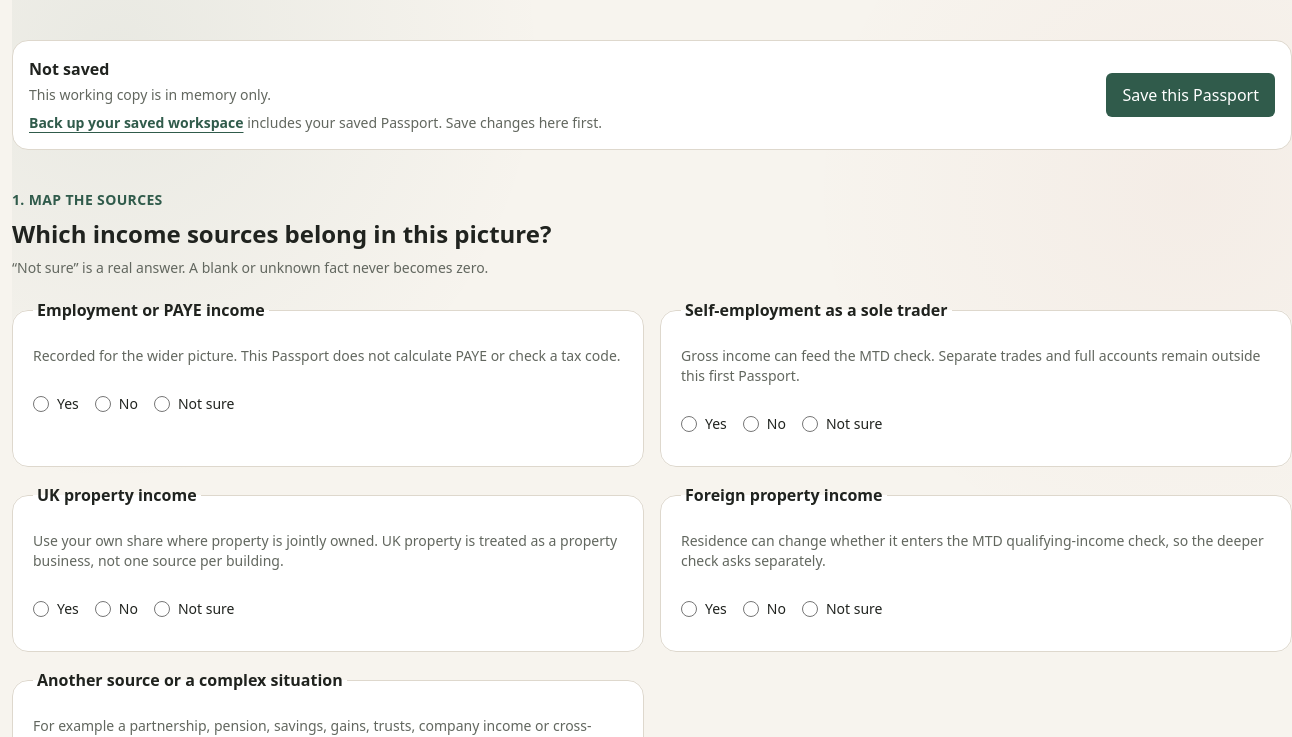
Tax Position Passport › treats a deliberate Not sure as an explicit source answer
Expected: the heading "Which income sources belong in this picture?" is shown, [12, 217, 551, 250]
Click the 1st radio button labelled "Not sure" at (162, 404), box [154, 396, 170, 412]
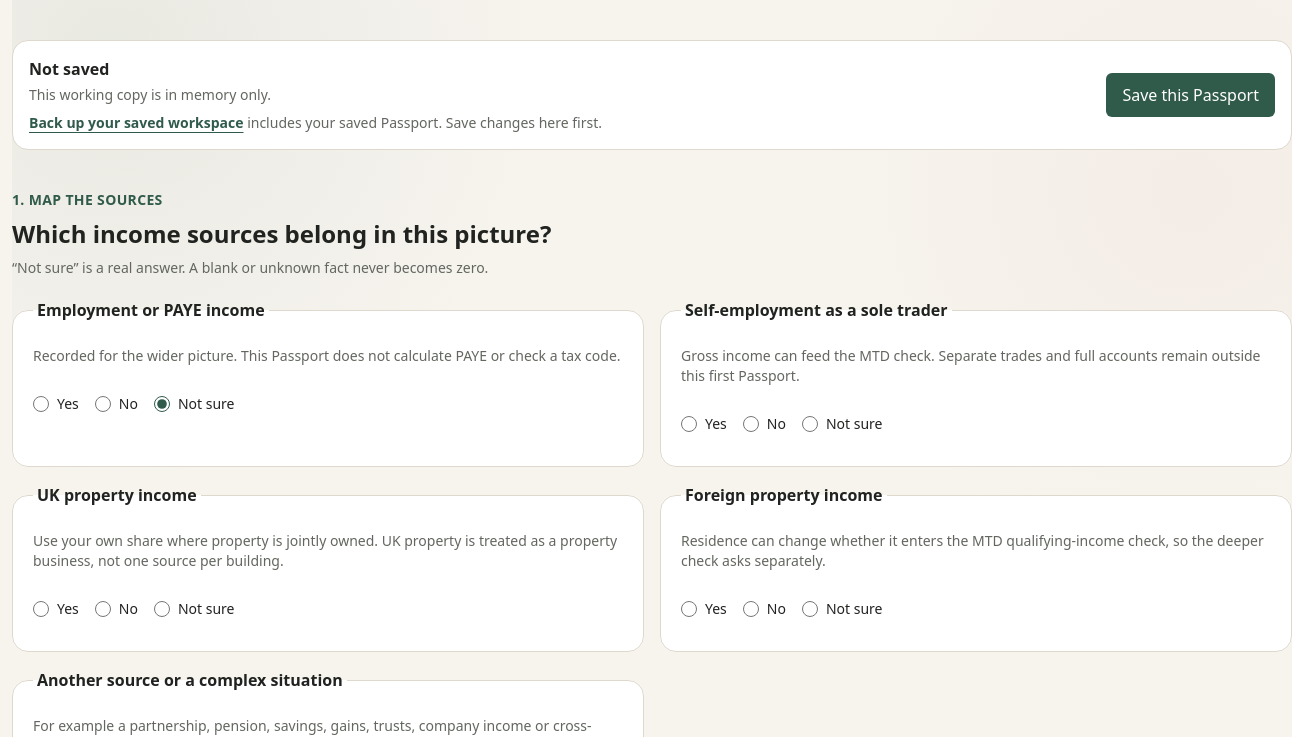
Click the 2nd radio button labelled "Not sure" at (810, 424), box [802, 416, 818, 432]
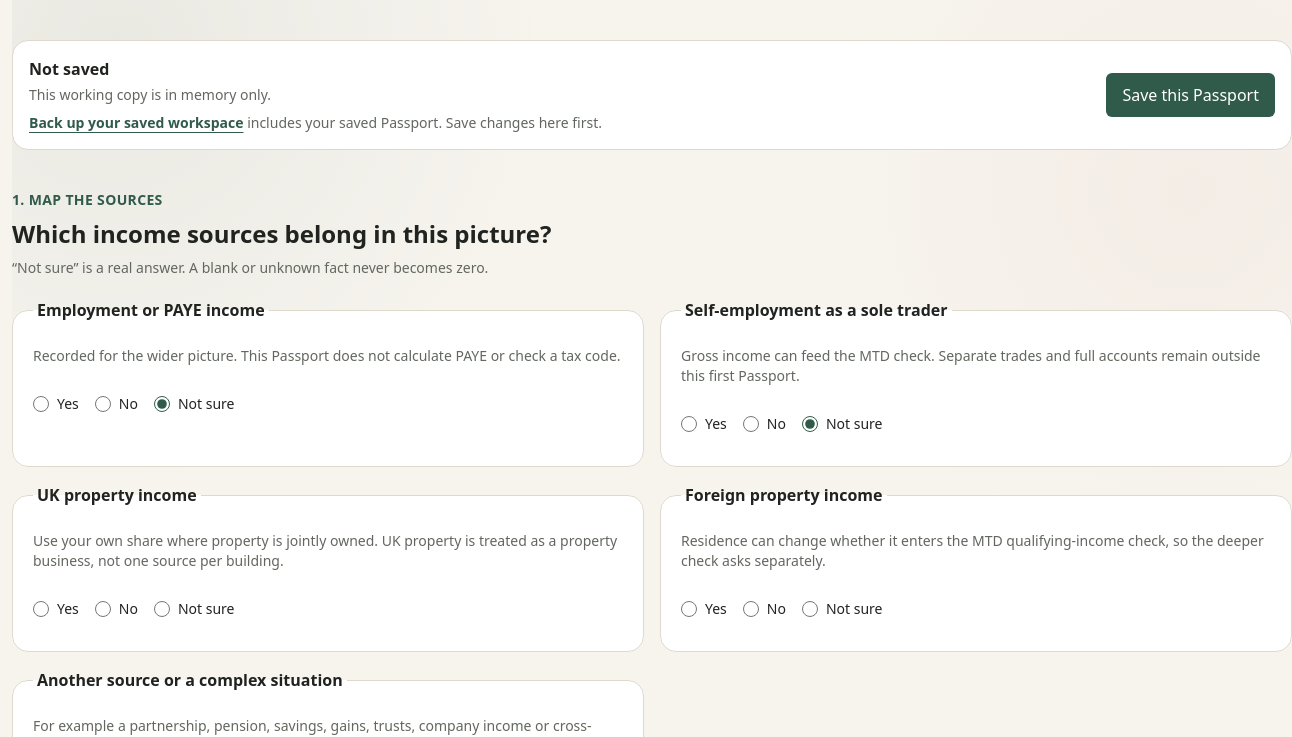
Click the 3rd radio button labelled "Not sure" at (162, 609), box [154, 601, 170, 617]
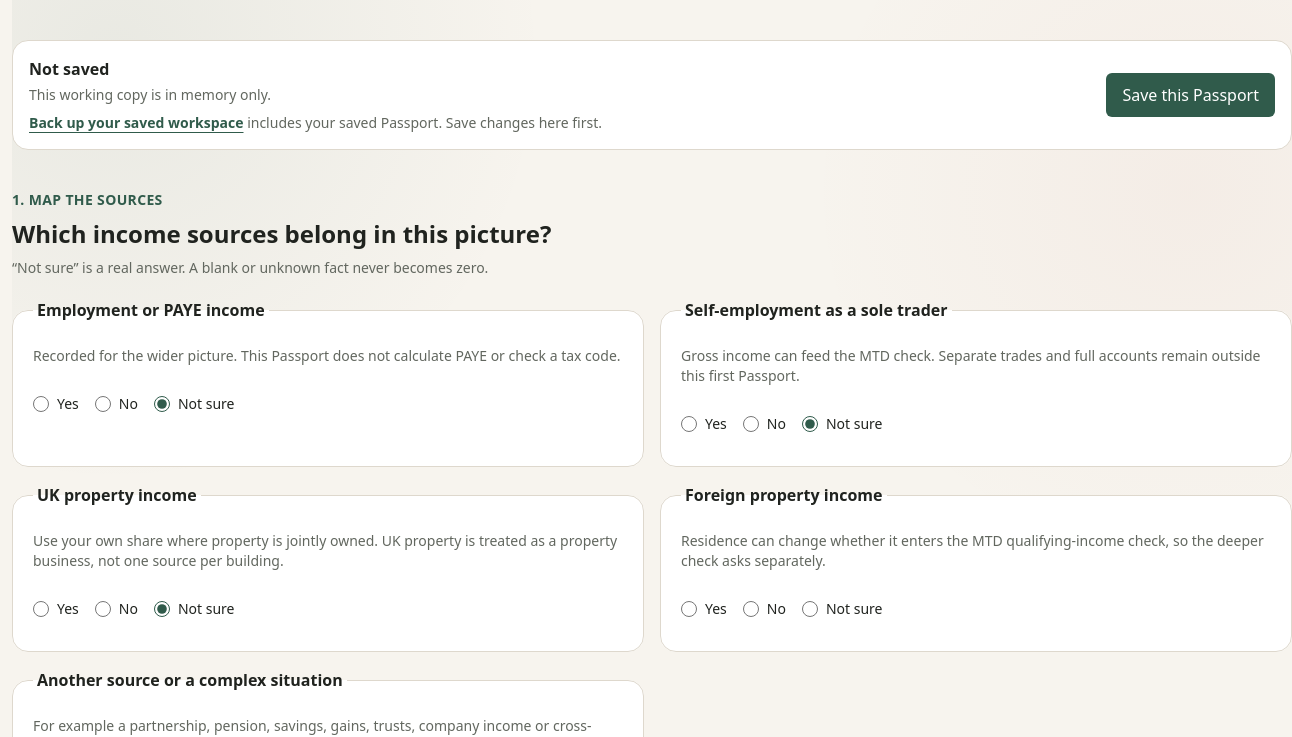
Click the 4th radio button labelled "Not sure" at (810, 609), box [802, 601, 818, 617]
(page scrolled)
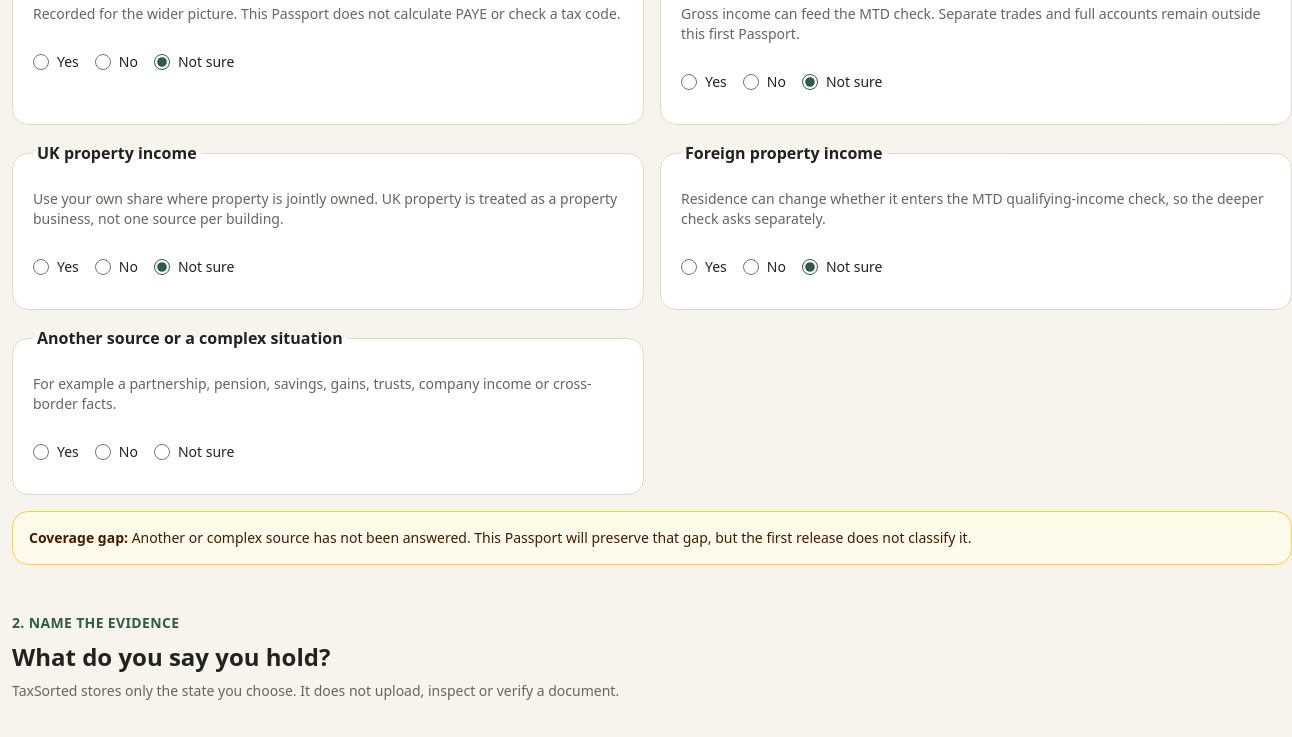
Click the 5th radio button labelled "Not sure" at (162, 452), box [154, 444, 170, 460]
(page scrolled)
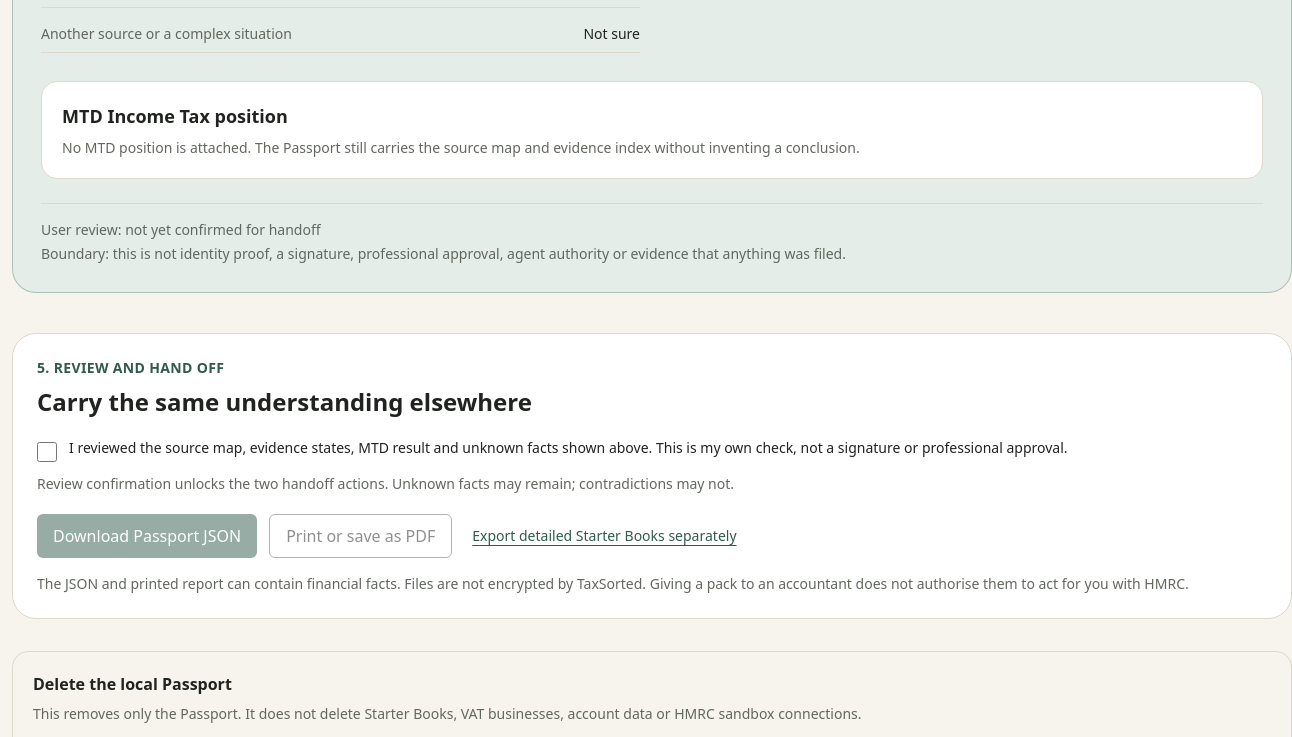
Expected: the checkbox labelled "I reviewed the source map" is enabled, [37, 442, 57, 462]
